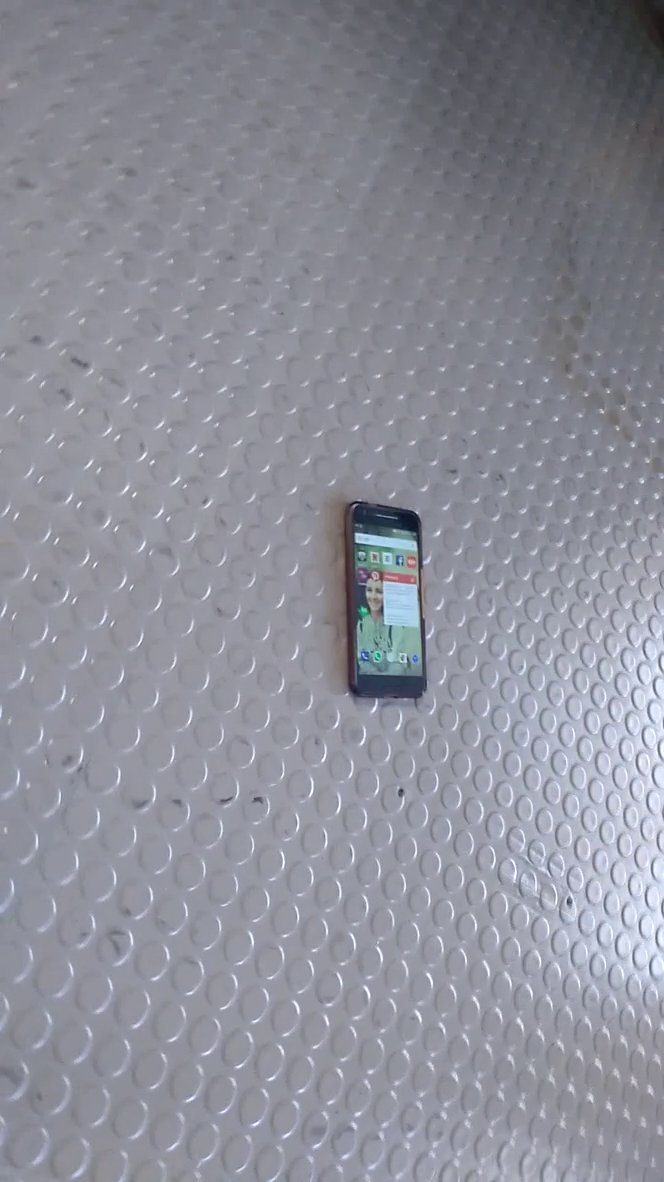phone: (337, 486, 446, 720)
